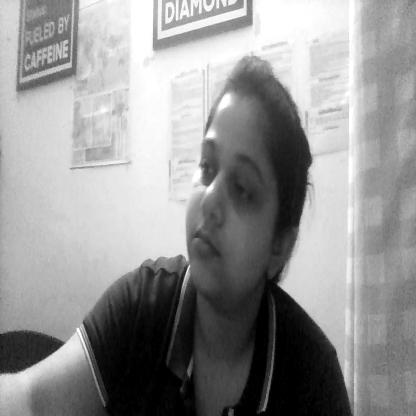Distracted: (186, 66, 292, 310)
